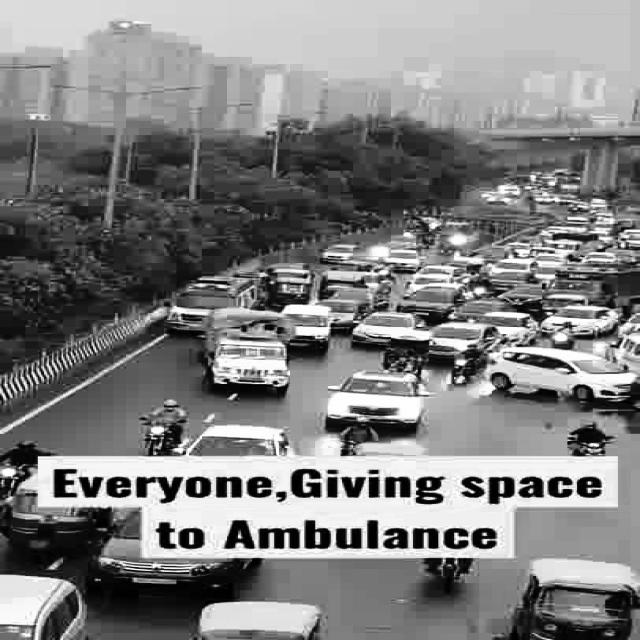Ambulance: (156, 277, 260, 310)
